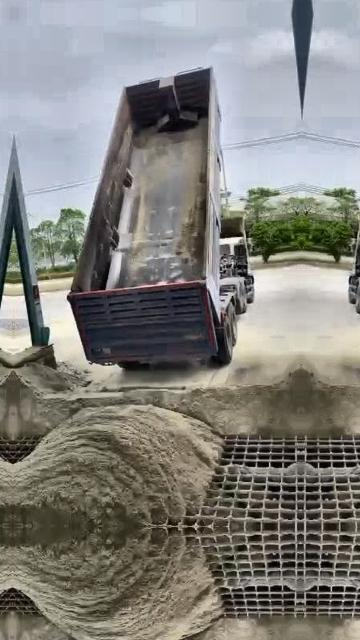sand: (14, 405, 221, 526), (13, 361, 301, 438), (175, 137, 205, 260), (224, 462, 300, 482)
